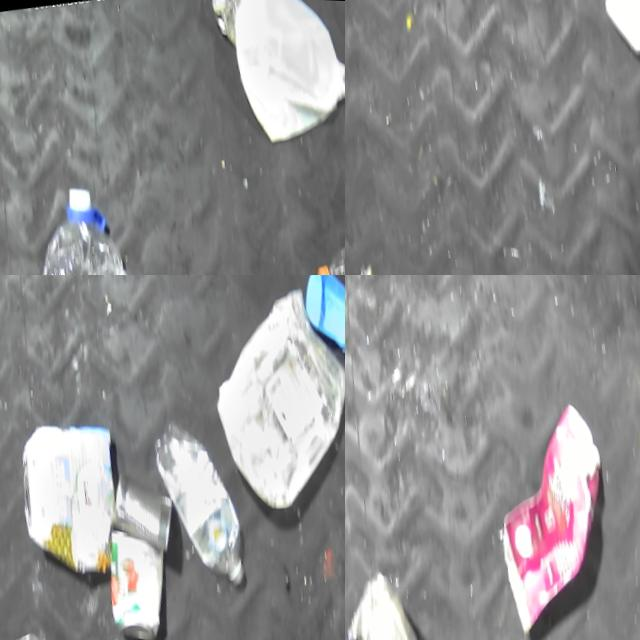can: (100, 512, 186, 640), (109, 462, 185, 556), (204, 0, 259, 42)
milk_jug: (211, 0, 345, 144)
non_white_jug: (477, 391, 636, 637)
plastic_bottle: (146, 410, 260, 595), (9, 166, 168, 275)
